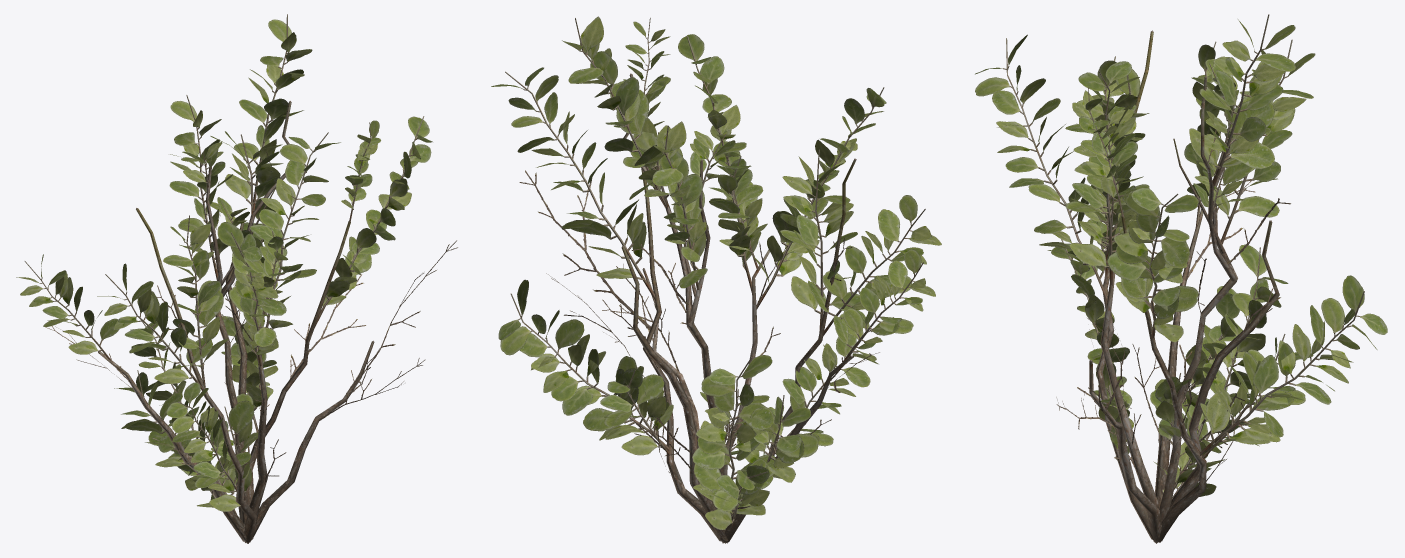
File: UE_searsia_lucida_f.gltf
The picture shows the model from 3 angles, left to right: view 1: azimuth 30°, elevation 25°; view 2: azimuth 150°, elevation 25°; view 3: azimuth 270°, elevation 25°; orthographic projection. The views are drawn at different scales.
Visible parts, largest first — view 1: searsia_lucida_f; view 2: searsia_lucida_f; view 3: searsia_lucida_f.
Boxes of the visible parts, bbox=[...] form: searsia_lucida_f: bbox=[16, 14, 457, 543]; searsia_lucida_f: bbox=[491, 16, 941, 543]; searsia_lucida_f: bbox=[975, 14, 1387, 543].
Size of the model in its own units: 0.6576 by 0.7386 by 0.4832.
Materials: 3 (3 with a texture image).
